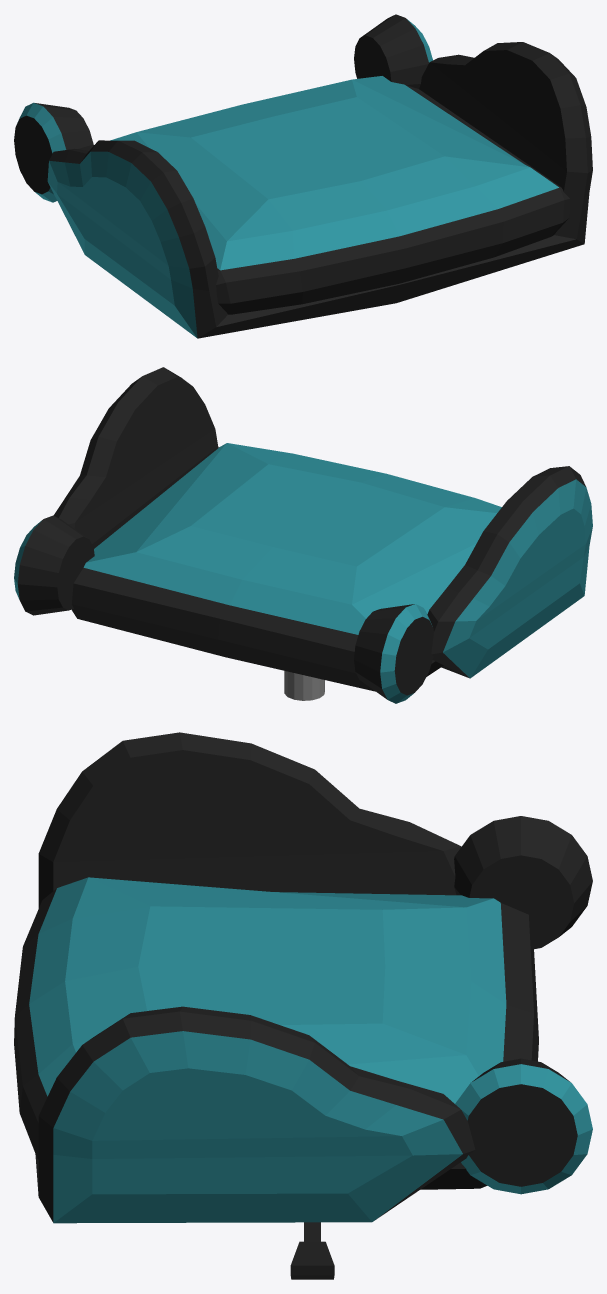
Rendered from Gaming_Chair_Seat_Base_3.obj.
3 renders of one model, top to bottom at view 1: azimuth 30°, elevation 25°; view 2: azimuth 150°, elevation 25°; view 3: azimuth 270°, elevation 25°, orthographic. The views are drawn at different scales.
Parts seen in each view (by area): view 1: Gaming_Chair_Seat_Base_3; view 2: Gaming_Chair_Seat_Base_3; view 3: Gaming_Chair_Seat_Base_3.
Boxes of the visible parts, x1,y1,x2,y2 form: Gaming_Chair_Seat_Base_3: (14, 14, 592, 338); Gaming_Chair_Seat_Base_3: (14, 367, 592, 703); Gaming_Chair_Seat_Base_3: (14, 732, 592, 1279).
Bounding box in the file's own units: 0.6653 × 0.3315 × 0.5249.
